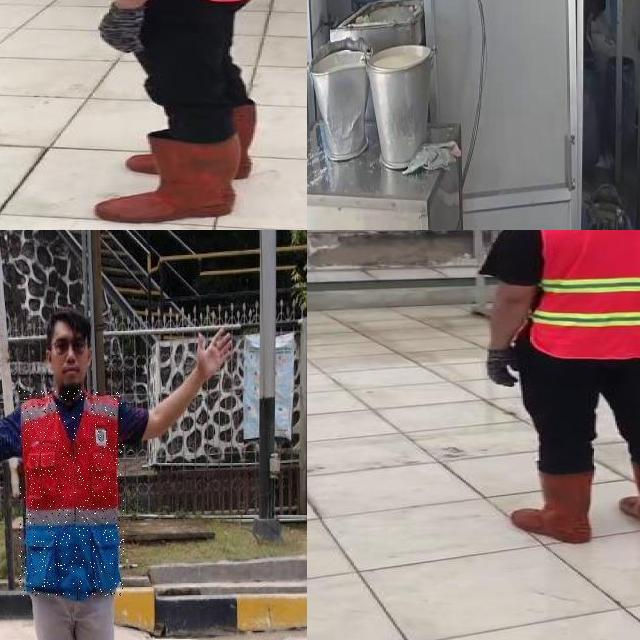boots: (90, 136, 248, 222), (507, 464, 599, 546), (624, 460, 640, 536)
hand_glove: (93, 5, 153, 52), (487, 346, 530, 387)
person: (469, 230, 640, 547), (54, 0, 280, 230)
vest: (19, 390, 124, 596), (524, 230, 640, 358)
